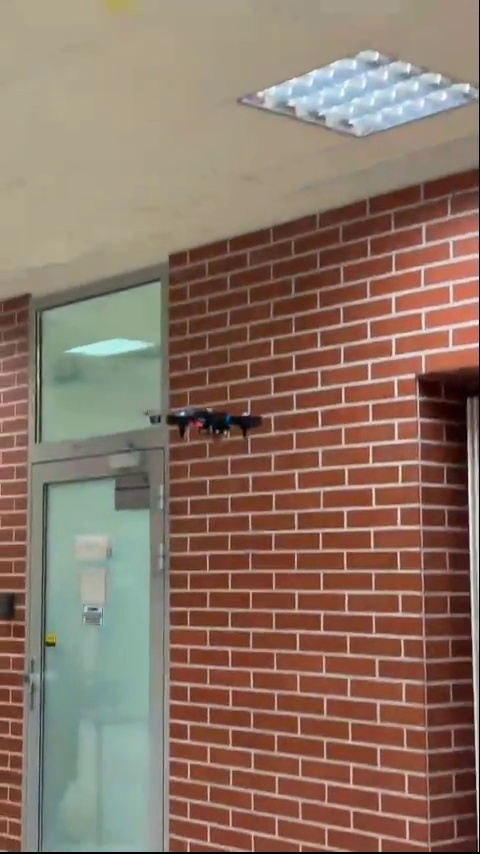drone: (167, 403, 270, 443)
